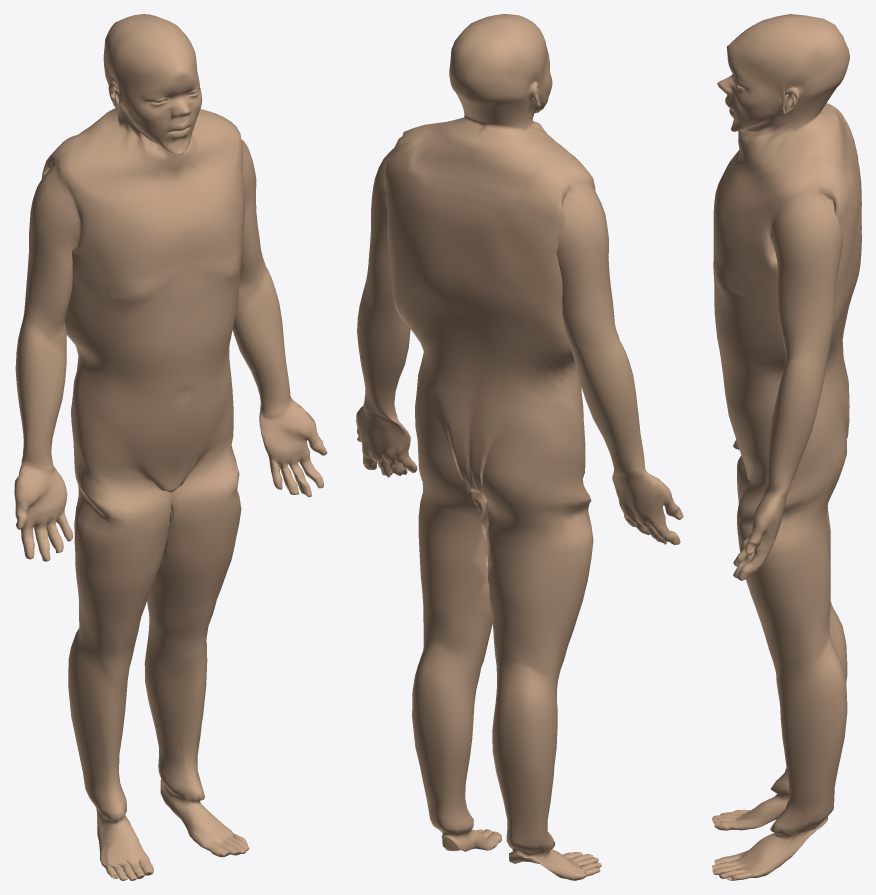
Rendered from skin-candidate-r41p1.glb.
3 renders of one model, left to right at view 1: azimuth 30°, elevation 25°; view 2: azimuth 150°, elevation 25°; view 3: azimuth 270°, elevation 25°, orthographic. The views are drawn at different scales.
Parts seen in each view (by area): view 1: MakeHuman_AT10_skin_fit_candidate_r41p1; view 2: MakeHuman_AT10_skin_fit_candidate_r41p1; view 3: MakeHuman_AT10_skin_fit_candidate_r41p1.
Boxes of the visible parts, <box> form: MakeHuman_AT10_skin_fit_candidate_r41p1: <box>14,14,327,880</box>; MakeHuman_AT10_skin_fit_candidate_r41p1: <box>356,14,683,880</box>; MakeHuman_AT10_skin_fit_candidate_r41p1: <box>712,14,861,880</box>.
Bounding box in the file's own units: 0.6758 × 1.71 × 0.28.
